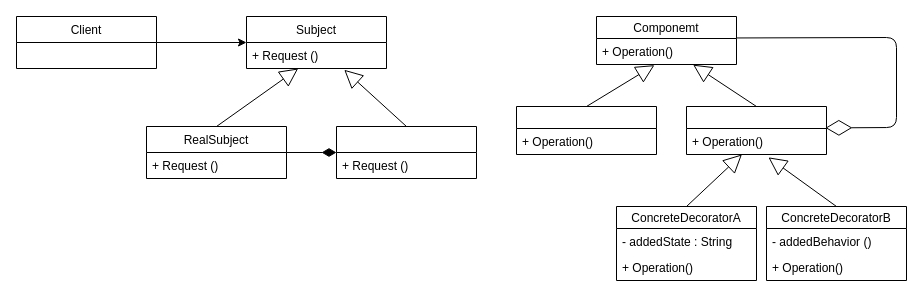
This 923x297 diagram has some shape labels left out. Each missing label, with the box of its shape:
ConcreteComponemt: (516, 106, 656, 154)
Decorator: (686, 106, 826, 154)
Proxy: (336, 126, 476, 178)
